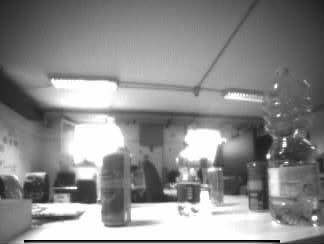Bottle: (265, 67, 318, 225), (174, 152, 200, 213)
Tin can: (102, 152, 130, 225), (247, 161, 265, 211), (207, 167, 224, 206)
